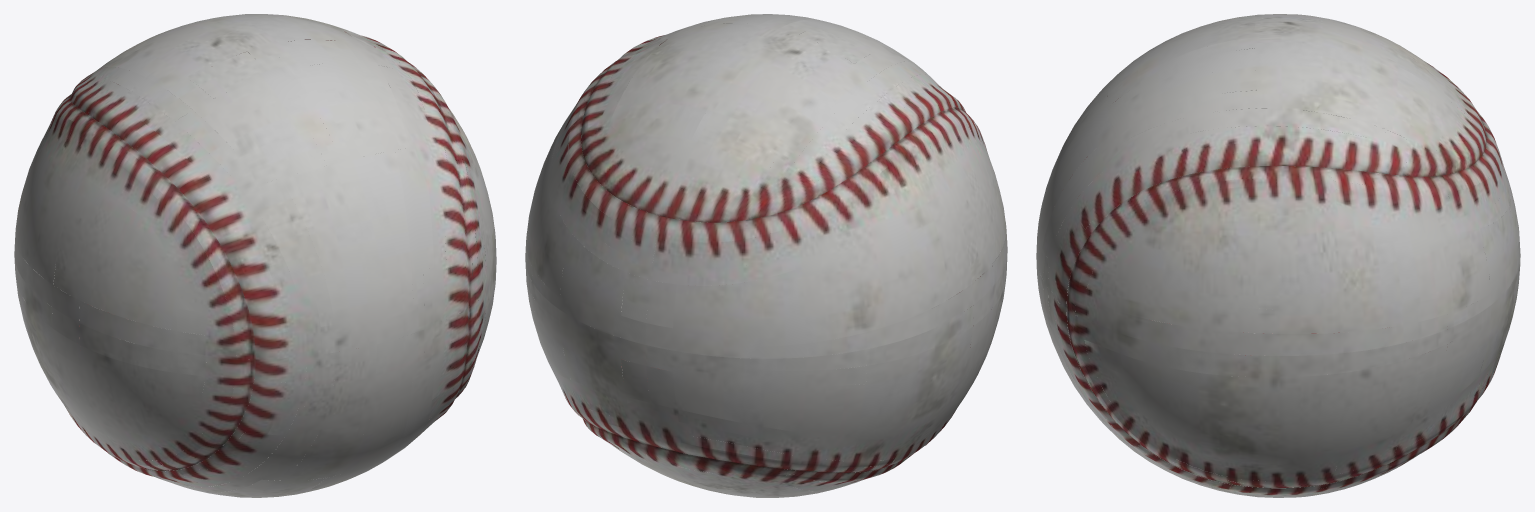
Rendered from baseball_01.glb.
3 views of the same model, side by side, from view 1: azimuth 30°, elevation 25°; view 2: azimuth 150°, elevation 25°; view 3: azimuth 270°, elevation 25° (orthographic).
Parts seen in each view (by area): view 1: baseball_01; view 2: baseball_01; view 3: baseball_01.
Part boxes in pixels (box(x1,y1,x2,y2)): baseball_01: box(14, 14, 496, 497); baseball_01: box(525, 14, 1007, 497); baseball_01: box(1036, 14, 1520, 497).
Bounding box in the file's own units: 0.0735 × 0.0753 × 0.0752.
1 material, 1 textured.
